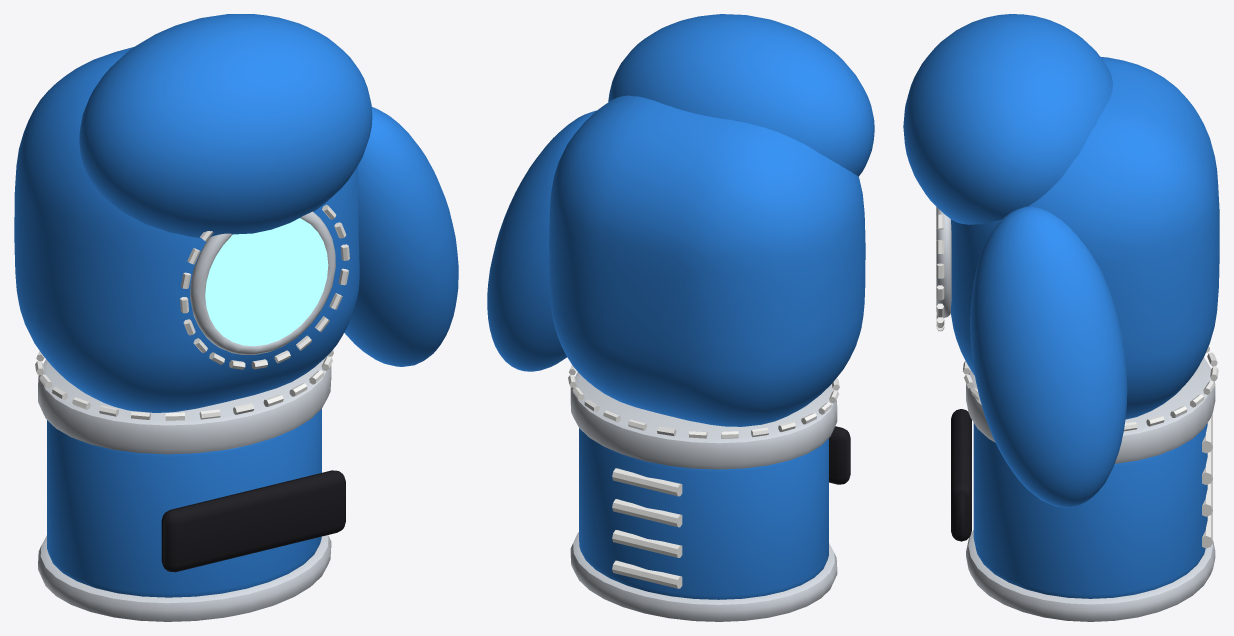
Rendered from gloves.glb.
3 renders of one model, left to right at view 1: azimuth 30°, elevation 25°; view 2: azimuth 150°, elevation 25°; view 3: azimuth 270°, elevation 25°, orthographic. The views are drawn at different scales.
Visible parts, largest first — view 1: gloves; view 2: gloves; view 3: gloves.
Part boxes in pixels (x1,y1,x2,y2): gloves: (14,14,458,621); gloves: (487,14,874,621); gloves: (903,14,1219,621).
Bounding box in the file's own units: 1.17 × 1.6 × 0.8592.
